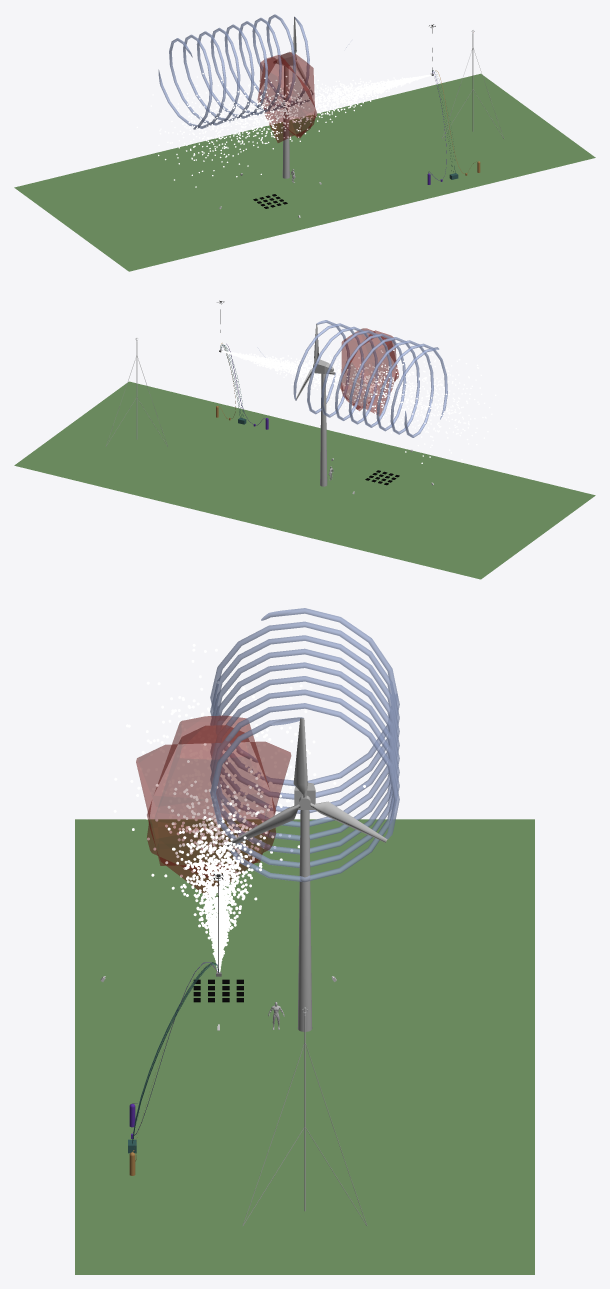
File: lpt-setup.glb
3 views of the same model, one above another, from view 1: azimuth 30°, elevation 25°; view 2: azimuth 150°, elevation 25°; view 3: azimuth 270°, elevation 25° (orthographic). The views are drawn at different scales.
Visible parts, largest first — view 1: Terrain, Bubbles, FOV3, Helix 2, Helix 1, Helix 3, Tower.001; view 2: Terrain, Bubbles, FOV3, Helix 1, Helix 3, Helix 2, Tower.001; view 3: Terrain, FOV3, Bubbles, Helix 3, Helix 1, Helix 2, Tower.001.
Boxes of the visible parts, <box> form: Terrain: <box>14,73,595,271</box>; Bubbles: <box>136,73,431,187</box>; FOV3: <box>257,52,317,142</box>; Helix 2: <box>158,16,309,128</box>; Helix 1: <box>183,14,295,129</box>; Helix 3: <box>169,17,312,125</box>; Tower.001: <box>282,66,289,178</box>; Terrain: <box>14,381,595,579</box>; Bubbles: <box>221,347,516,463</box>; FOV3: <box>340,328,398,415</box>; Helix 1: <box>293,323,447,431</box>; Helix 3: <box>307,326,439,434</box>; Helix 2: <box>316,320,433,437</box>; Tower.001: <box>320,373,327,486</box>; Terrain: <box>75,819,534,1274</box>; FOV3: <box>136,715,291,894</box>; Bubbles: <box>113,644,365,972</box>; Helix 3: <box>210,608,399,882</box>; Helix 1: <box>210,621,399,854</box>; Helix 2: <box>210,635,399,867</box>; Tower.001: <box>297,810,312,1031</box>.
Size of the model in its own units: 75 by 24.61 by 32.
